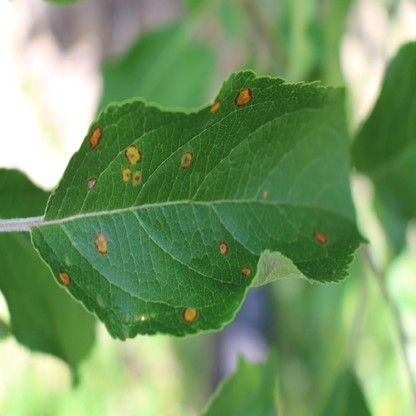frogeye_leaf_spot: (88, 178, 97, 190)
rust: (93, 231, 109, 254), (124, 145, 141, 165), (89, 125, 101, 151), (235, 88, 251, 104), (182, 306, 197, 322), (180, 151, 194, 168), (59, 272, 70, 288), (313, 231, 326, 244), (217, 240, 228, 254), (132, 170, 141, 187), (209, 100, 221, 112), (122, 168, 131, 182), (240, 266, 252, 274), (263, 190, 268, 198)
